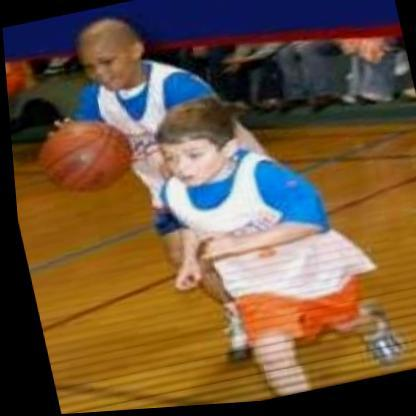basketball: (23, 106, 144, 211)
